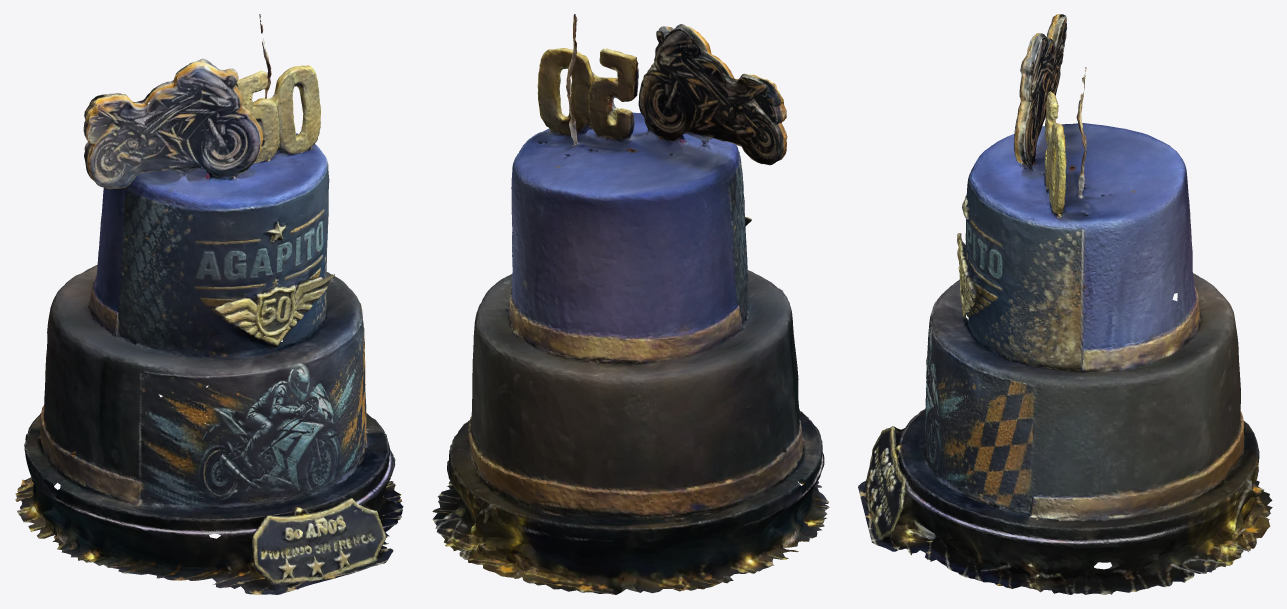
Rendered from 50_anios_motero_cropped.glb.
The picture shows the model from 3 angles, left to right: view 1: azimuth 30°, elevation 25°; view 2: azimuth 150°, elevation 25°; view 3: azimuth 270°, elevation 25°; orthographic projection. The views are drawn at different scales.
Parts seen in each view (by area): view 1: Tarta_clean; view 2: Tarta_clean; view 3: Tarta_clean.
Boxes of the visible parts, x1,y1,x2,y2 form: Tarta_clean: (15,14,403,594); Tarta_clean: (432,14,829,594); Tarta_clean: (858,14,1272,594).
Bounding box in the file's own units: 0.3082 × 0.4214 × 0.3346.
Materials: 1 (1 with a texture image).
